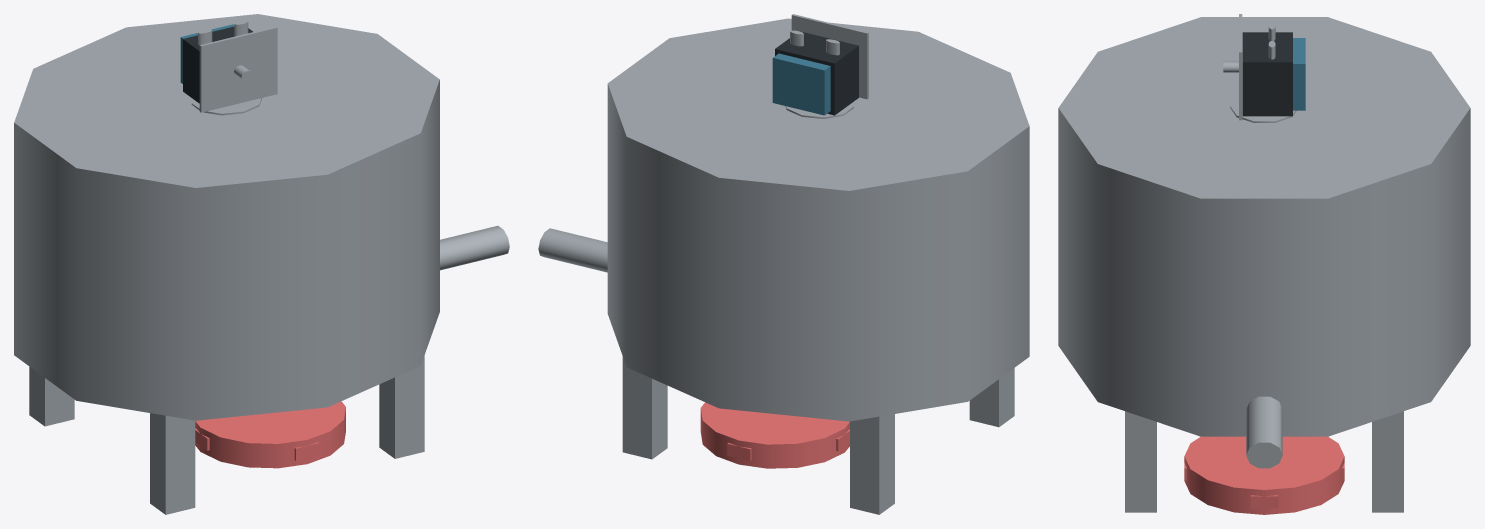
The picture shows the model from 3 angles, left to right: view 1: azimuth 30°, elevation 25°; view 2: azimuth 150°, elevation 25°; view 3: azimuth 270°, elevation 25°; orthographic projection. The views are drawn at different scales.
Visible parts, largest first — view 1: g0005, visualRotor, g1, g0007, g0006, g0, g0003, g0002; view 2: g0005, visualRotor, g0003, g0008, g3, g0002, g0, g0007, g1; view 3: g0005, visualRotor, g0002, g0008, g0006, g0, g3.
Boxes of the visible parts, x1,y1,x2,y2 form: g0005: (14,14,439,420); visualRotor: (195,401,345,468); g1: (199,26,277,112); g0007: (150,413,195,514); g0006: (379,355,424,458); g0: (440,225,509,270); g0003: (29,366,74,426); g0002: (183,26,252,103); g0005: (607,18,1029,421); visualRotor: (700,402,849,468); g0003: (850,414,894,514); g0008: (622,357,667,459); g3: (772,53,830,115); g0002: (775,31,858,115); g0: (538,228,607,272); g0007: (969,368,1014,427); g1: (791,14,868,99); g0005: (1058,17,1470,436); visualRotor: (1184,436,1344,514); g0002: (1242,32,1292,116); g0008: (1372,411,1403,512); g0006: (1125,411,1156,512); g0: (1246,396,1282,468); g3: (1293,38,1305,110).
Bounding box in the file's own units: 2.35 × 2.06 × 1.8.
